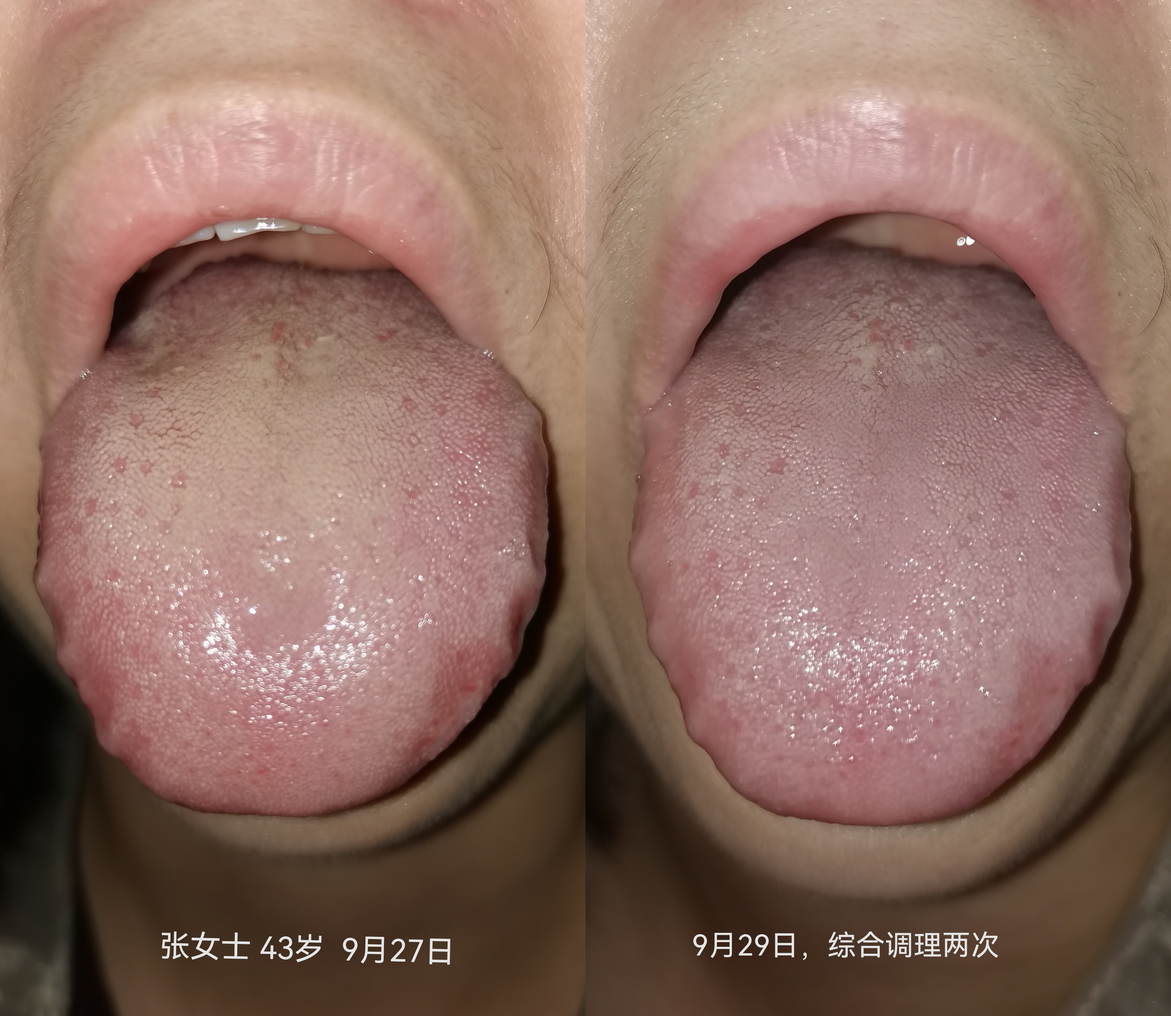baitaishe: (630, 248, 1133, 824), (35, 258, 547, 816)
chihenshe: (632, 554, 733, 789), (39, 579, 153, 781), (1078, 459, 1134, 699), (496, 445, 547, 678)
pangdashe: (35, 258, 547, 816)
